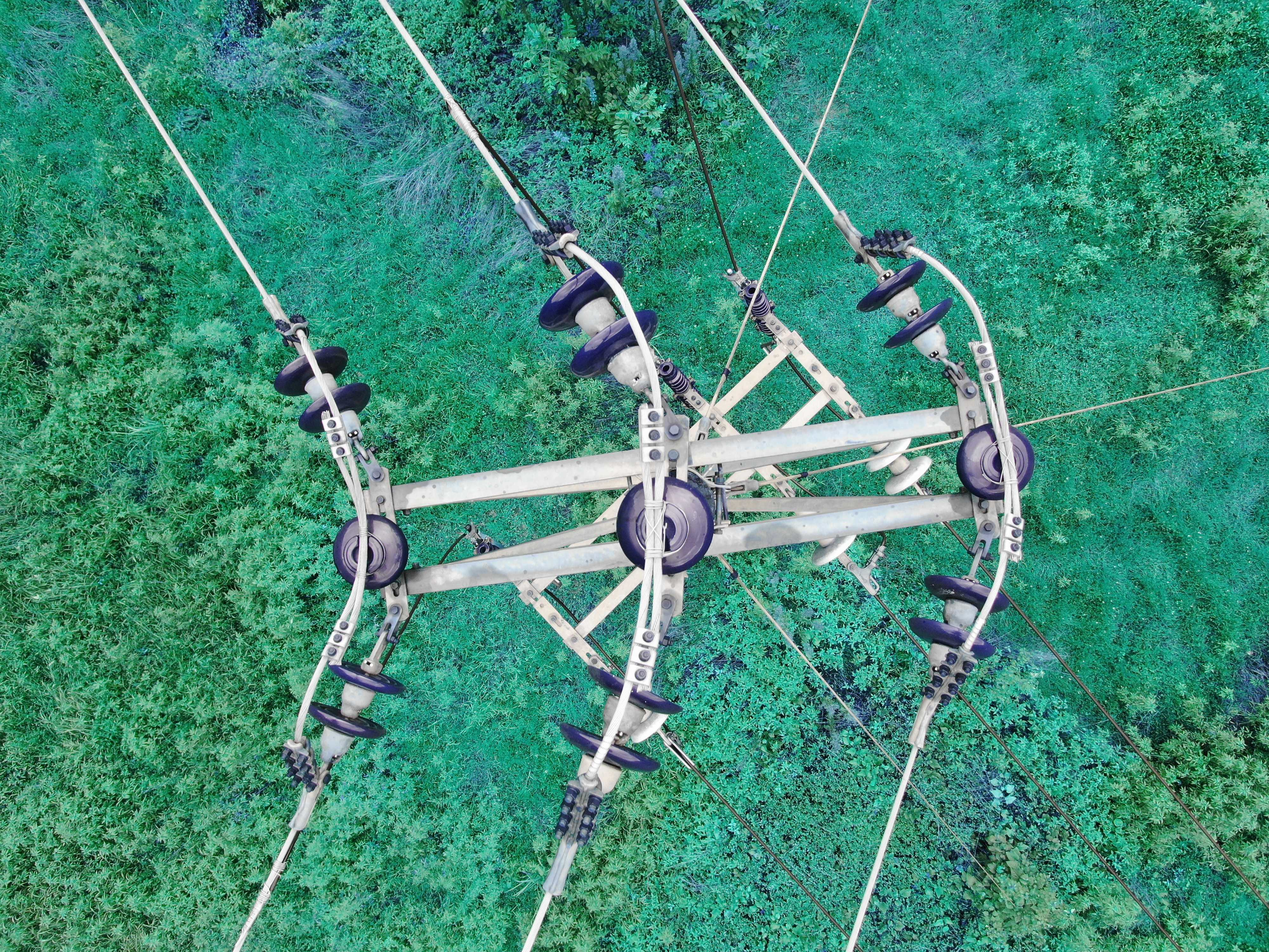severe_soiling_no_discharge_whole: (809, 534, 856, 568)
